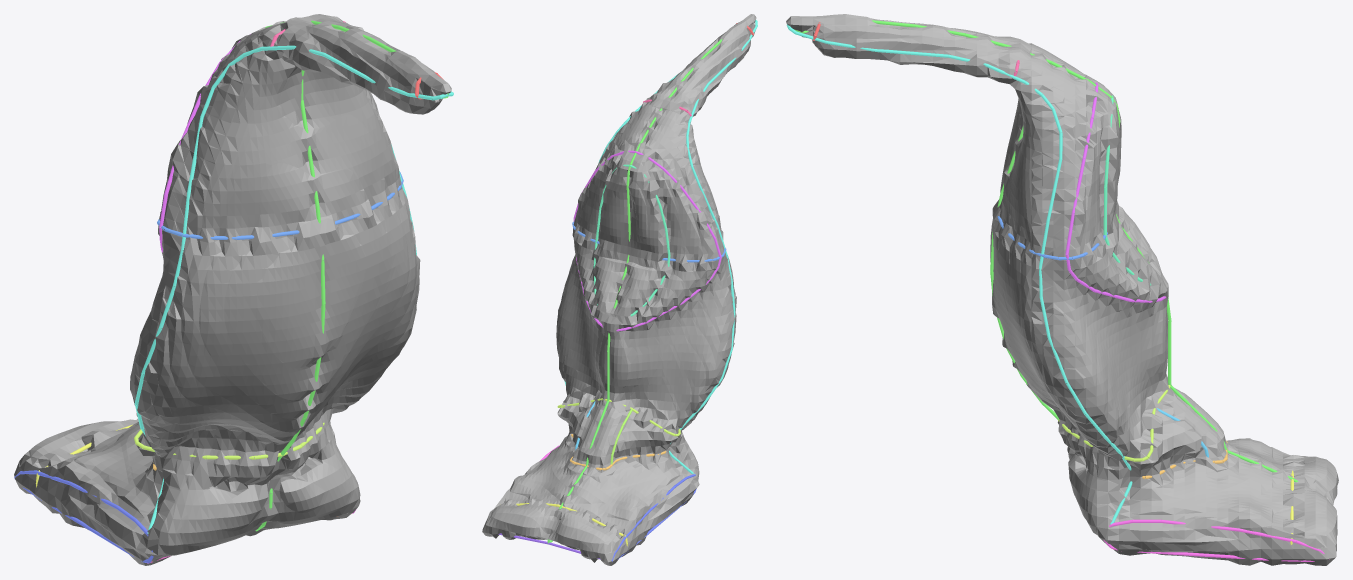
Rendered from t2f_vacuum.gltf.
3 renders of one model, left to right at view 1: azimuth 30°, elevation 25°; view 2: azimuth 150°, elevation 25°; view 3: azimuth 270°, elevation 25°, orthographic. The views are drawn at different scales.
Bounding box in the file's own units: 0.317 × 0.6933 × 0.6792.
